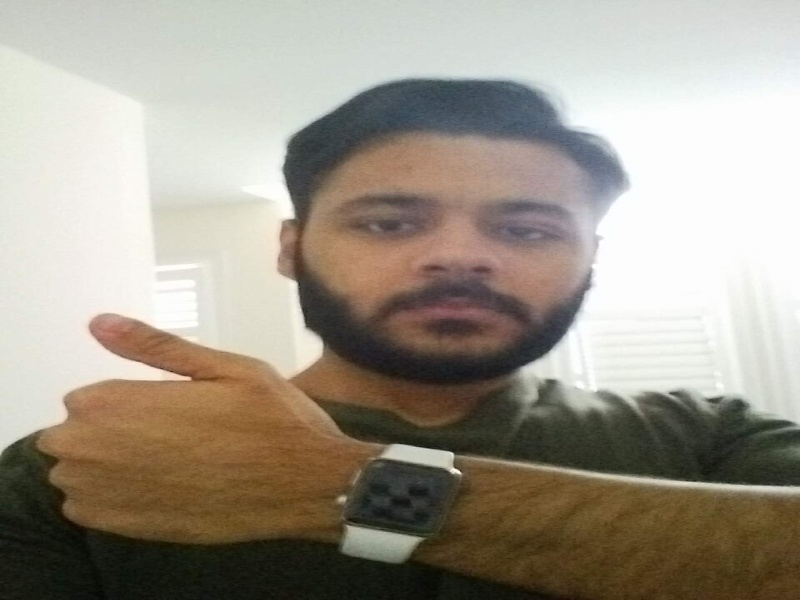thumbup: (38, 312, 340, 551)
